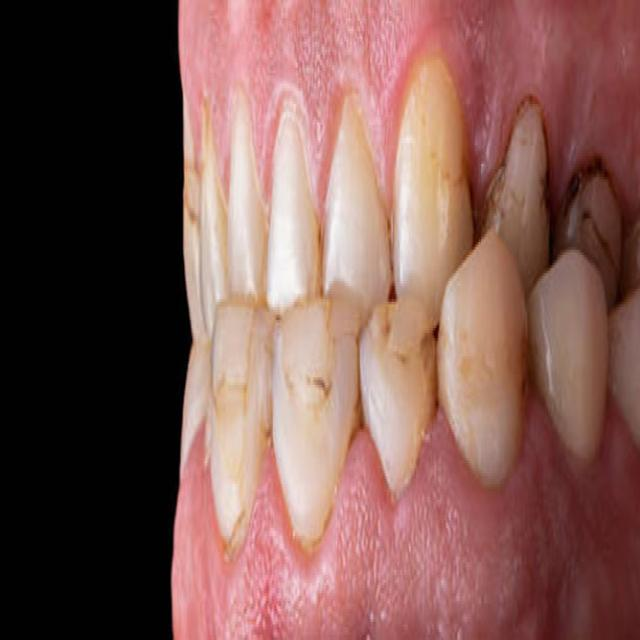caries: (276, 302, 338, 427), (208, 335, 250, 423), (410, 322, 446, 418), (367, 294, 403, 376), (582, 212, 617, 272)
